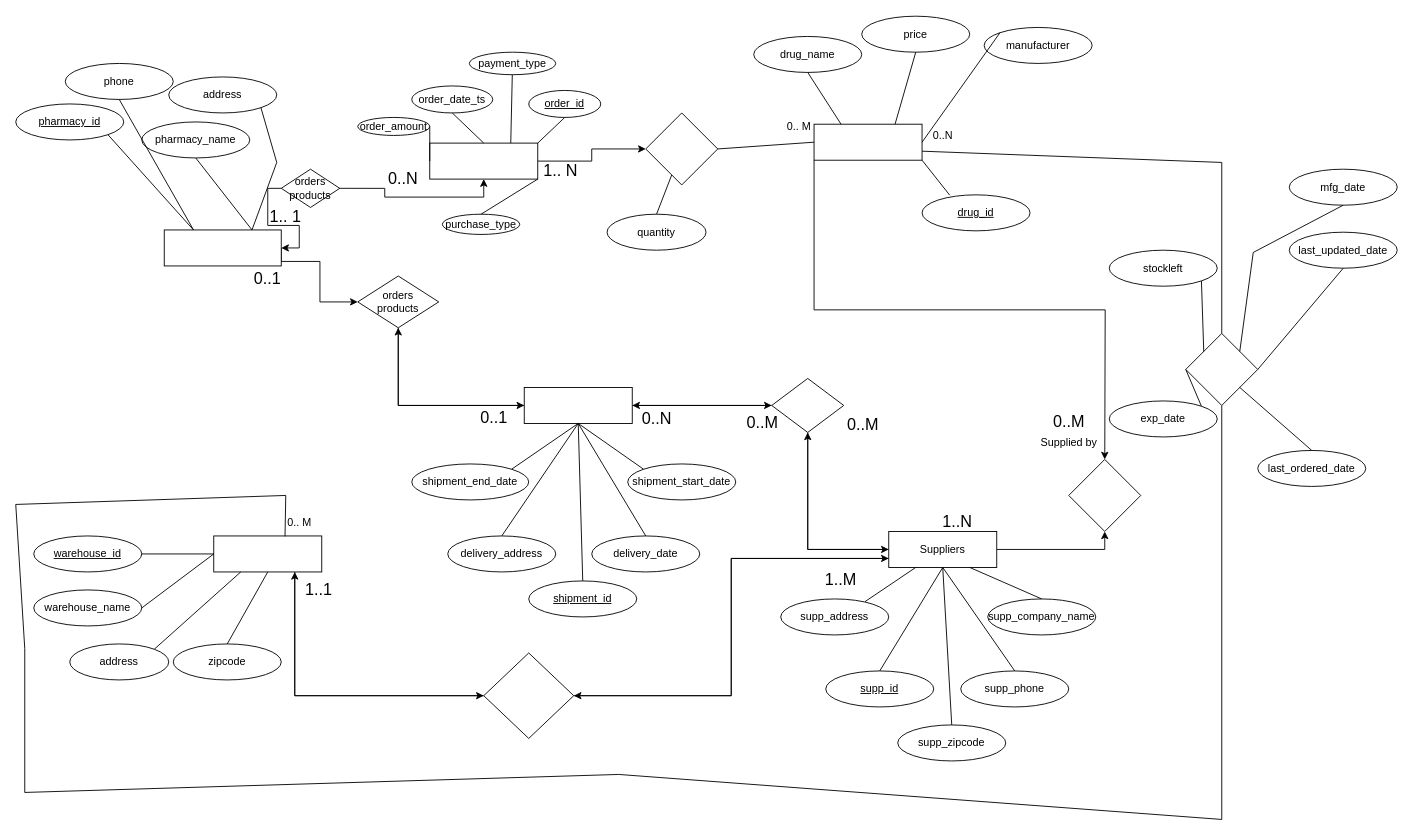
Some shapes in this 1413 by 836 pixel diagram are drawn without their labels. Each missing label, with the box of its shape:
details: (645, 112, 718, 185)
Drugs: (813, 123, 922, 160)
holds: (1185, 333, 1258, 405)
Order: (429, 142, 538, 179)
Pharmacy: (163, 229, 281, 266)
Shipment: (523, 387, 632, 423)
Ships drugs: (771, 378, 844, 432)
supplies: (1068, 459, 1141, 531)
Supplies drugs: (483, 652, 574, 738)
Warehouse: (213, 535, 322, 572)
